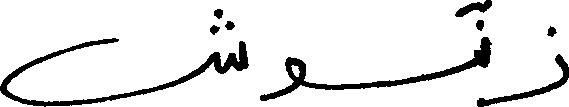X: (0, 4, 246, 106), (508, 21, 568, 105), (259, 52, 306, 105), (479, 0, 491, 106)
